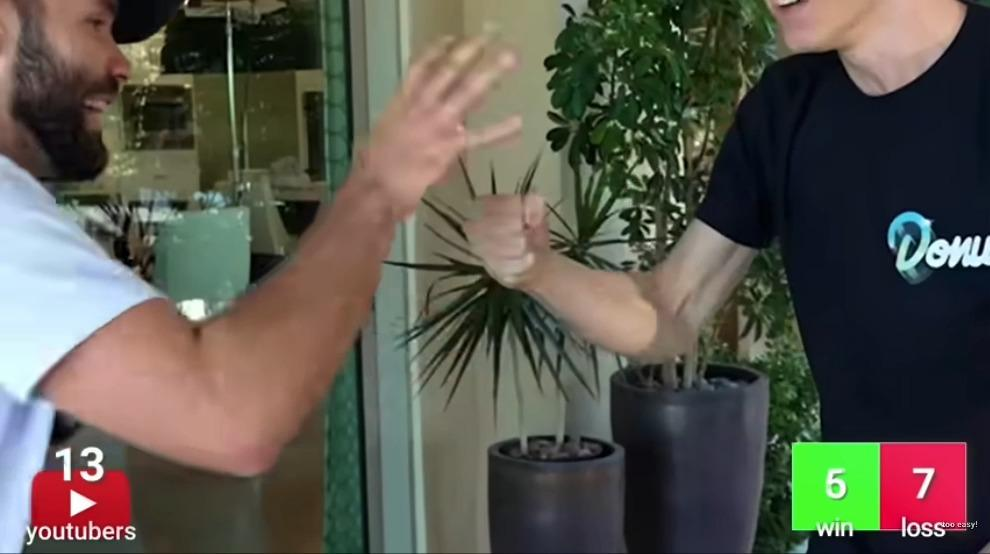Paper: (362, 21, 526, 204)
Rock: (464, 189, 554, 291)
